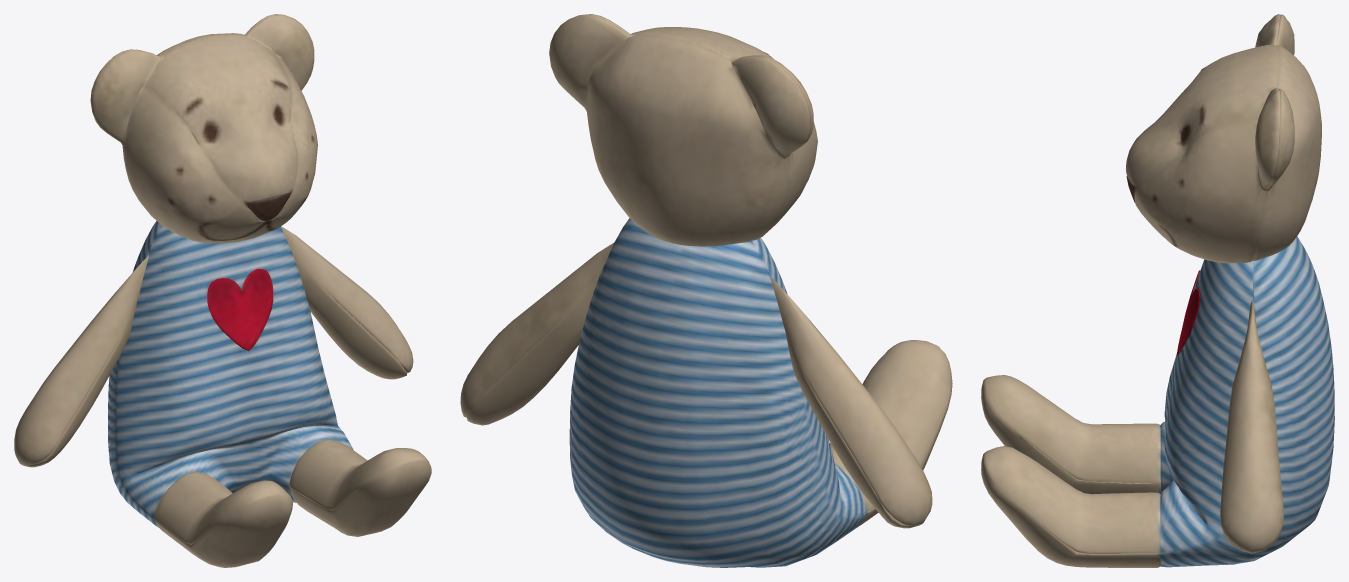
File: fabler_bjorn_pluszak_00141401.glb
3 renders of one model, left to right at view 1: azimuth 30°, elevation 25°; view 2: azimuth 150°, elevation 25°; view 3: azimuth 270°, elevation 25°, orthographic. The views are drawn at different scales.
Visible parts, largest first — view 1: fabler_bjorn_pluszak_00141401; view 2: fabler_bjorn_pluszak_00141401; view 3: fabler_bjorn_pluszak_00141401.
Boxes of the visible parts, x1,y1,x2,y2 form: fabler_bjorn_pluszak_00141401: [14, 14, 431, 567]; fabler_bjorn_pluszak_00141401: [460, 14, 952, 567]; fabler_bjorn_pluszak_00141401: [981, 14, 1334, 567].
Size of the model in its own units: 0.1656 by 0.179 by 0.1213.
Materials: 1 (1 with a texture image).
